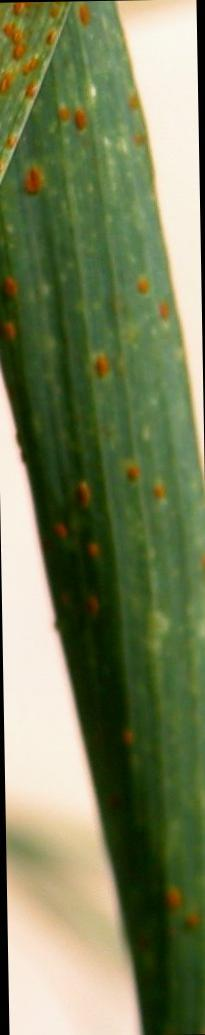Corn: (2, 8, 205, 631)
